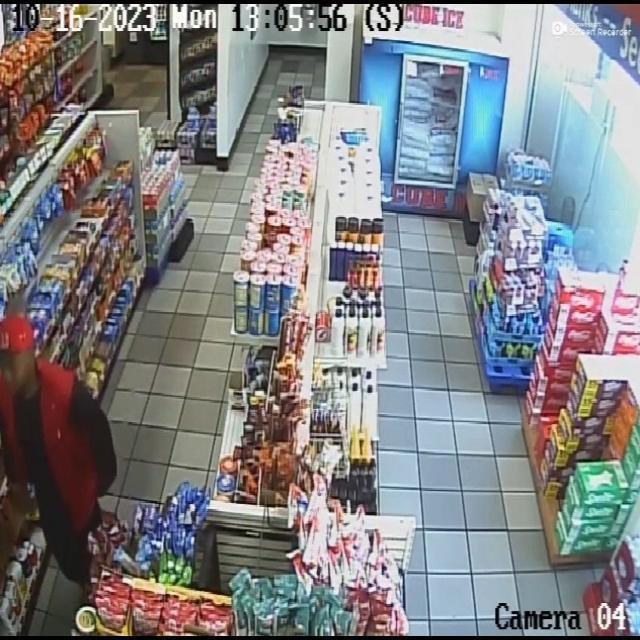normal: (1, 302, 118, 569)
